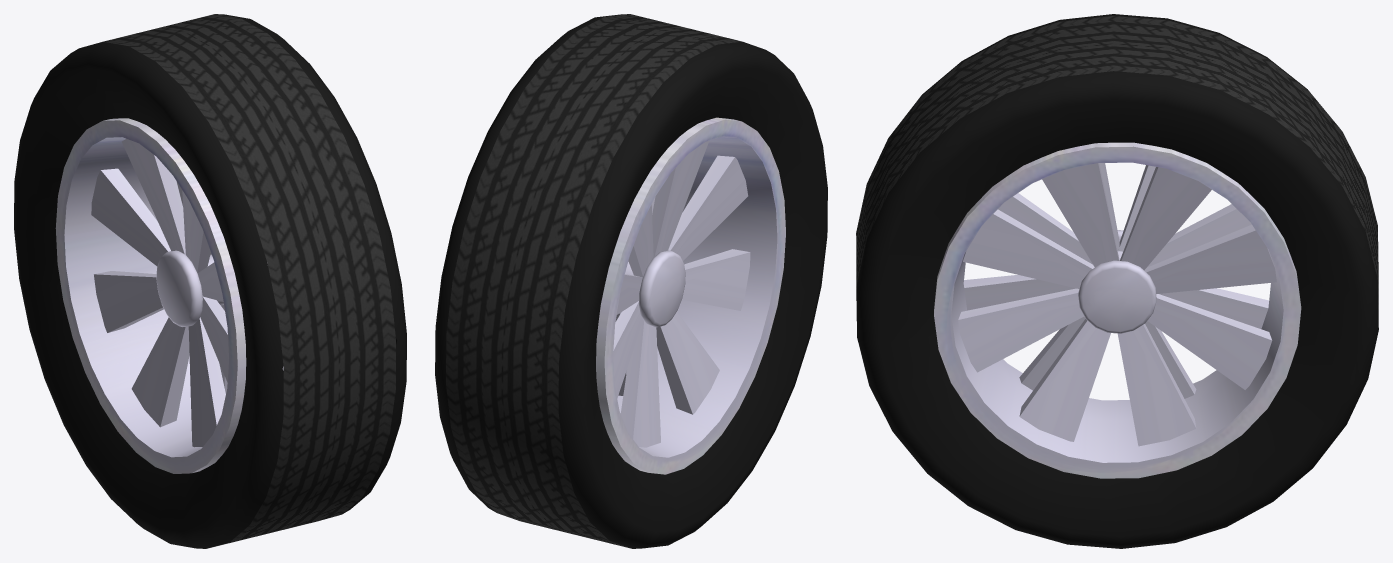
Rendered from 3wheel_wheel.obj.
3 renders of one model, left to right at view 1: azimuth 30°, elevation 25°; view 2: azimuth 150°, elevation 25°; view 3: azimuth 270°, elevation 25°, orthographic.
Parts seen in each view (by area): view 1: Boite38_Сіть.001; view 2: Boite38_Сіть.001; view 3: Boite38_Сіть.001.
Boxes of the visible parts, left/top/right/bottom form: Boite38_Сіть.001: left=14, top=14, right=406, bottom=548; Boite38_Сіть.001: left=435, top=14, right=827, bottom=548; Boite38_Сіть.001: left=856, top=14, right=1378, bottom=548.
Size of the model in its own units: 0.6768 by 2.02 by 2.01.
3 materials, 3 textured.
